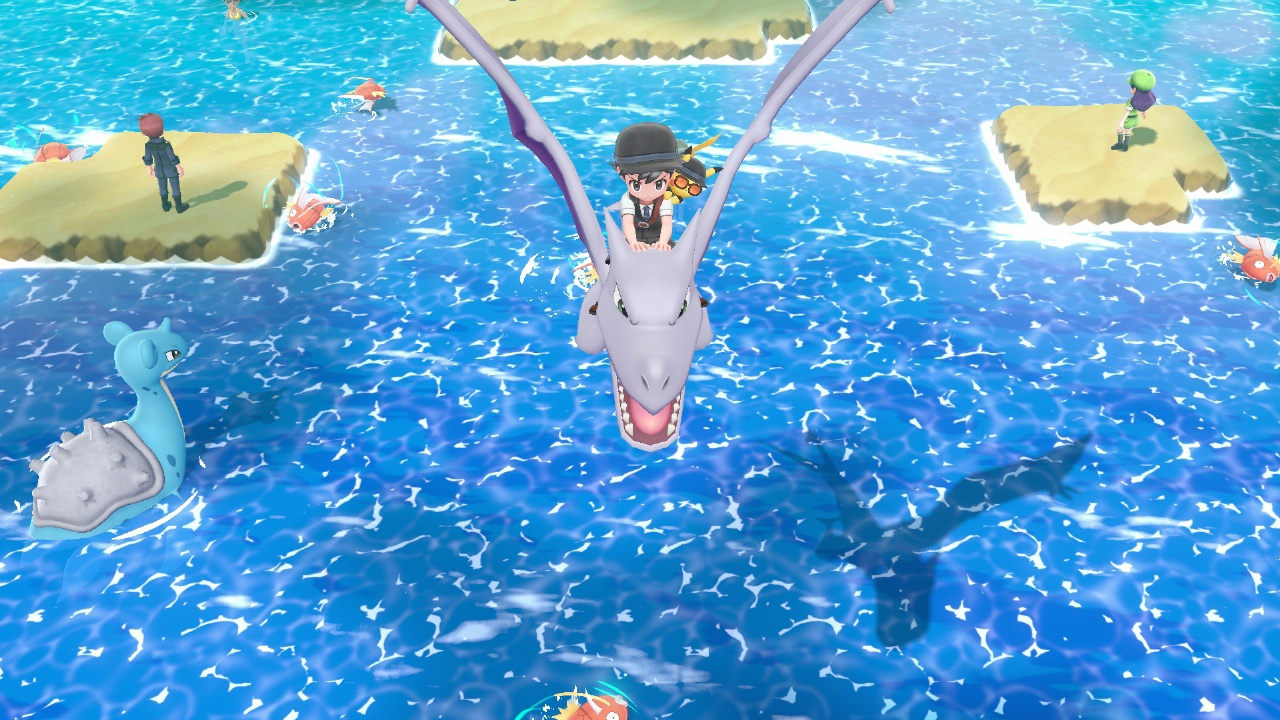Red: (1219, 234, 1280, 286), (547, 688, 629, 720), (286, 190, 338, 234), (340, 77, 388, 105), (32, 137, 83, 163)
